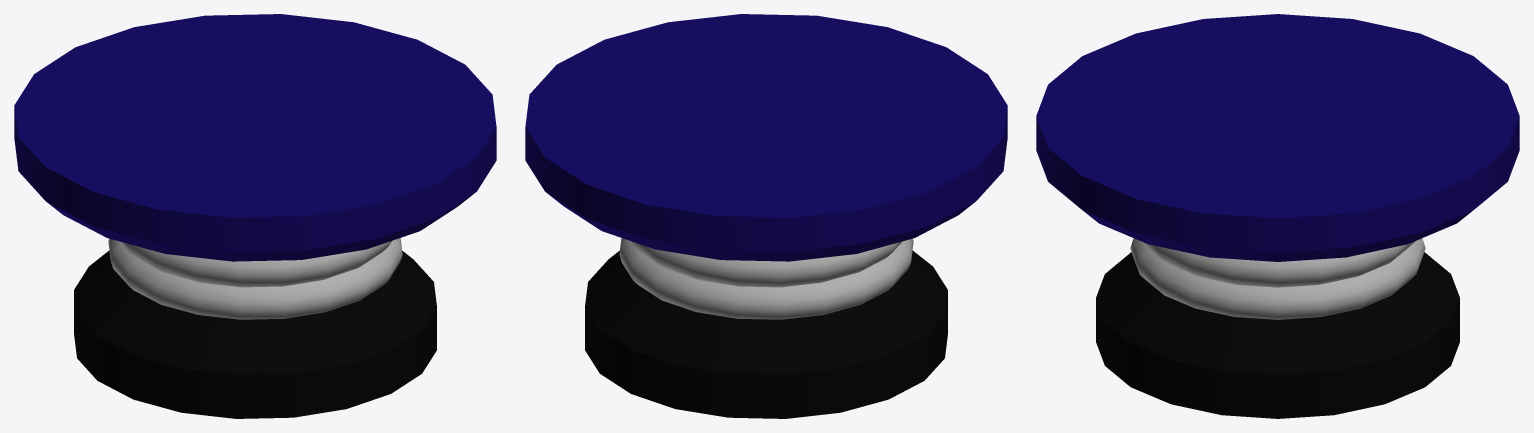
The model's file is Jump_pad.fbx.
3 renders of one model, left to right at view 1: azimuth 30°, elevation 25°; view 2: azimuth 150°, elevation 25°; view 3: azimuth 270°, elevation 25°, orthographic.
Visible parts, largest first — view 1: pCylinder3; view 2: pCylinder3; view 3: pCylinder3.
Part boxes in pixels (left/top/right/bottom): pCylinder3: left=14, top=14, right=496, bottom=418; pCylinder3: left=525, top=14, right=1007, bottom=418; pCylinder3: left=1036, top=14, right=1519, bottom=418.
Size of the model in its own units: 2.66 by 1.37 by 2.66.
